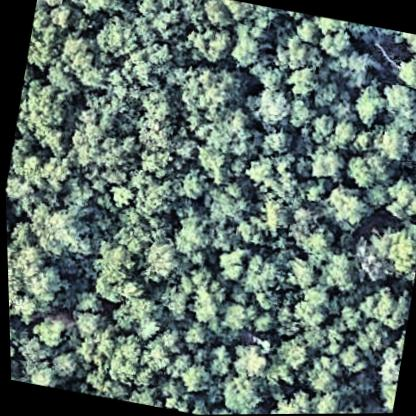tree-top: (166, 54, 247, 129), (68, 106, 139, 190), (12, 74, 80, 151), (22, 199, 92, 265), (83, 238, 148, 305), (127, 87, 188, 158), (15, 253, 72, 319), (117, 37, 176, 96), (98, 329, 153, 389), (233, 248, 290, 305), (180, 269, 235, 328), (319, 178, 374, 234), (88, 9, 143, 64), (198, 180, 253, 234), (164, 207, 217, 263), (123, 164, 176, 218), (339, 145, 394, 197), (358, 280, 411, 332), (312, 245, 363, 299), (297, 350, 349, 402), (310, 128, 359, 182), (58, 28, 106, 83), (373, 221, 416, 282), (24, 14, 67, 75), (211, 369, 266, 415), (249, 82, 299, 132), (118, 290, 168, 340), (136, 235, 185, 285), (253, 188, 298, 242), (223, 335, 273, 383), (142, 1, 193, 48), (286, 287, 334, 335), (369, 117, 416, 165), (29, 149, 76, 197), (303, 141, 350, 187), (24, 311, 73, 355), (136, 330, 181, 376), (269, 332, 316, 376), (346, 85, 390, 131), (282, 31, 329, 74), (224, 29, 267, 74), (380, 172, 416, 224), (282, 251, 325, 294), (215, 298, 258, 340), (172, 355, 216, 396), (171, 161, 212, 205), (212, 0, 274, 29), (313, 23, 359, 62), (209, 243, 251, 285), (254, 123, 297, 164), (376, 78, 416, 121), (351, 318, 394, 358), (372, 337, 403, 392), (284, 62, 326, 102), (263, 385, 317, 415), (196, 26, 235, 66), (98, 181, 141, 216), (239, 153, 279, 189), (307, 71, 342, 111), (22, 357, 65, 389), (177, 318, 215, 353), (69, 305, 106, 340), (357, 178, 394, 213), (75, 0, 130, 23), (329, 118, 363, 155), (46, 347, 81, 382), (332, 301, 368, 334), (370, 370, 397, 414), (391, 52, 416, 97), (318, 396, 375, 414), (247, 306, 278, 338), (301, 177, 332, 207), (311, 15, 348, 38), (399, 32, 416, 72), (8, 339, 22, 380), (202, 403, 245, 415), (411, 131, 416, 182), (413, 150, 416, 186)
